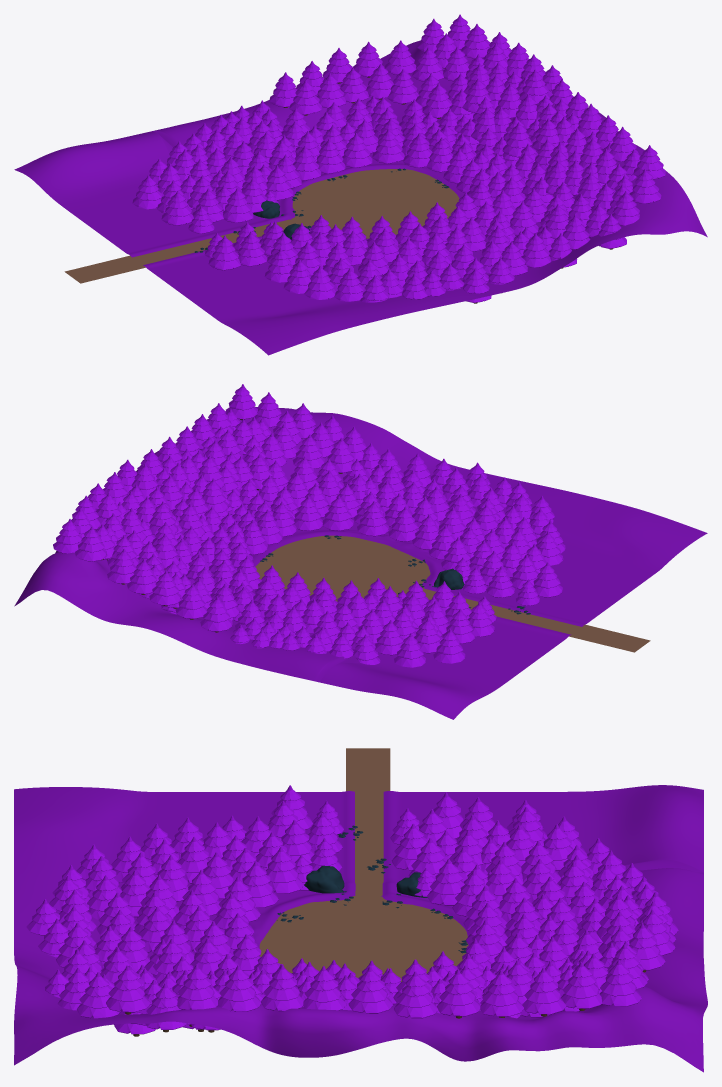
File: witch_finalboss.fbx
3 renders of one model, top to bottom at view 1: azimuth 30°, elevation 25°; view 2: azimuth 150°, elevation 25°; view 3: azimuth 270°, elevation 25°, orthographic. The views are drawn at different scales.
Parts seen in each view (by area): view 1: Plane, Circle, Tree_3.087, Tree_3.026, Tree_3.082, Tree_3.040, Tree_3.150, Tree_3.030, Tree_3.107, Tree_3.193, Tree_3.066, Tree_3.218 (+32 smaller); view 2: Plane, Circle, Tree_3.144, Tree_3.142, Tree_3.012, Tree_3.013, Tree_3.139, Tree_3.143, Tree_3.228, Tree_3.244, Tree_3.001, Tree_3.087 (+25 smaller); view 3: Plane, Circle, Tree_3.192, Tree_3.133, Tree_3.132, Tree_3.135, Tree_3.130, Tree_3.134, Tree_3.127, Tree_3.136, Tree_3.137, Tree_3.128 (+81 smaller).
Boxes of the visible parts, bbox=[...] form: Plane: bbox=[14, 40, 707, 355]; Circle: bbox=[64, 169, 459, 283]; Tree_3.087: bbox=[208, 235, 240, 270]; Tree_3.026: bbox=[372, 128, 404, 163]; Tree_3.082: bbox=[161, 190, 193, 225]; Tree_3.040: bbox=[223, 188, 253, 222]; Tree_3.150: bbox=[289, 80, 321, 115]; Tree_3.030: bbox=[342, 133, 372, 167]; Tree_3.107: bbox=[387, 68, 419, 104]; Tree_3.193: bbox=[630, 169, 661, 203]; Tree_3.066: bbox=[238, 231, 266, 266]; Tree_3.218: bbox=[304, 265, 335, 299]; Plane: bbox=[14, 406, 707, 719]; Circle: bbox=[255, 535, 650, 652]; Tree_3.144: bbox=[200, 596, 232, 632]; Tree_3.142: bbox=[149, 570, 181, 606]; Tree_3.012: bbox=[322, 495, 353, 530]; Tree_3.013: bbox=[357, 501, 389, 536]; Tree_3.139: bbox=[75, 526, 107, 561]; Tree_3.143: bbox=[175, 583, 207, 619]; Tree_3.228: bbox=[433, 628, 465, 663]; Tree_3.244: bbox=[394, 633, 425, 667]; Tree_3.001: bbox=[293, 495, 322, 530]; Tree_3.087: bbox=[533, 562, 562, 597]; Plane: bbox=[14, 785, 707, 1072]; Circle: bbox=[259, 748, 468, 981]; Tree_3.192: bbox=[106, 965, 150, 1014]; Tree_3.133: bbox=[437, 969, 480, 1018]; Tree_3.132: bbox=[394, 971, 438, 1018]; Tree_3.135: bbox=[522, 967, 566, 1016]; Tree_3.130: bbox=[348, 966, 392, 1013]; Tree_3.134: bbox=[480, 970, 523, 1017]; Tree_3.127: bbox=[218, 965, 261, 1011]; Tree_3.136: bbox=[561, 962, 601, 1010]; Tree_3.137: bbox=[600, 960, 641, 1006]; Tree_3.128: bbox=[261, 964, 303, 1011].
Bounding box in the file's own units: 35140 × 6061 × 29978.
